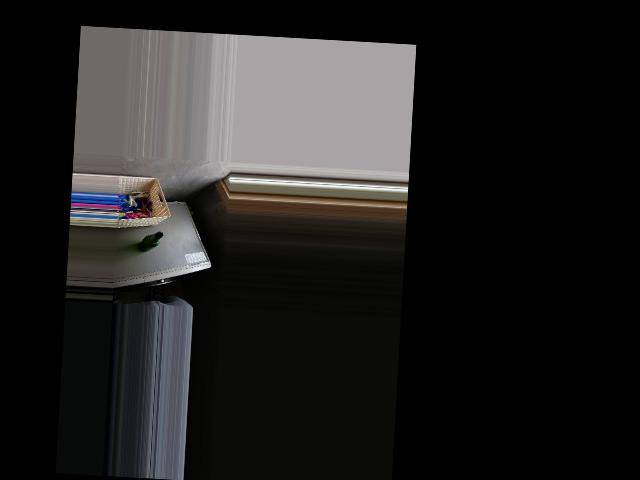beer: (137, 231, 163, 253)
